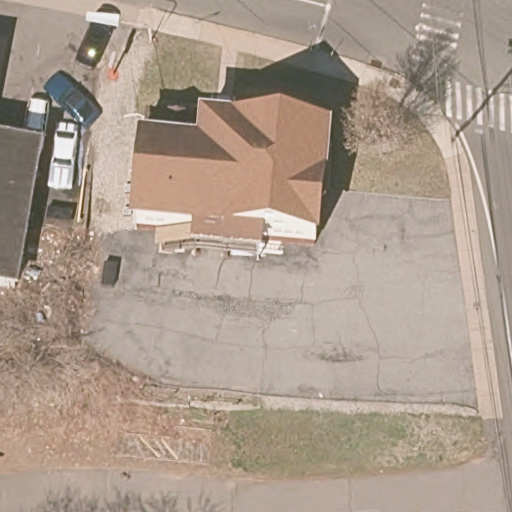DT: (440, 101, 484, 153)
